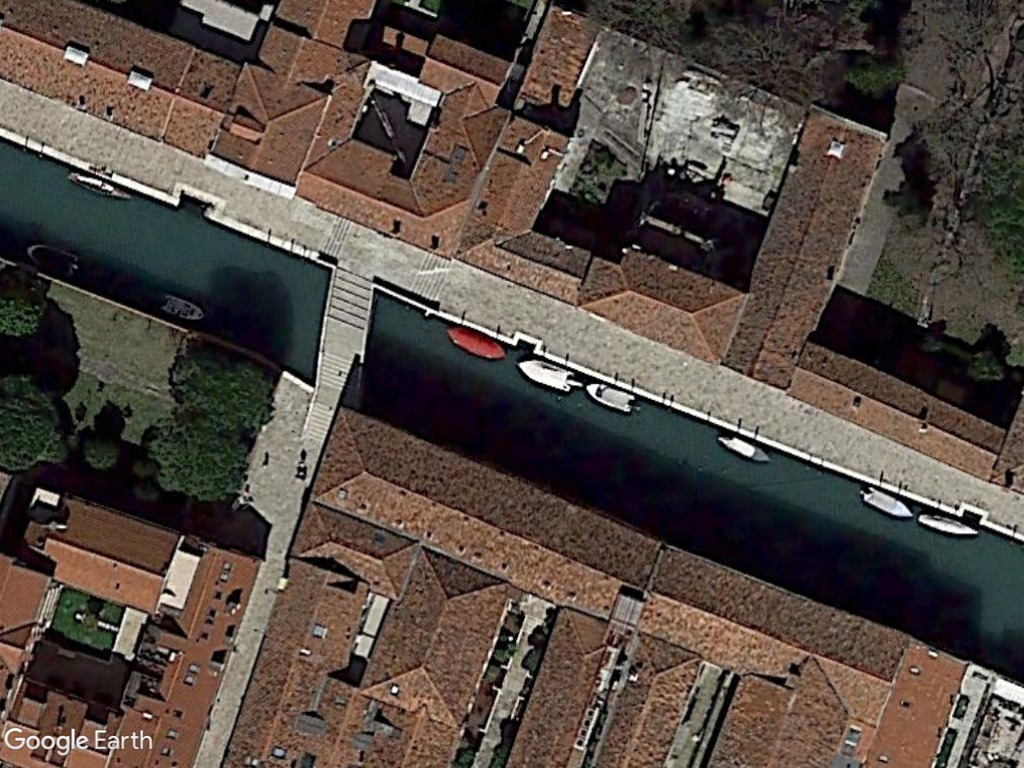boat: (514, 356, 579, 398), (18, 240, 86, 280), (443, 324, 508, 364), (856, 483, 916, 522), (915, 508, 983, 541), (583, 379, 640, 417), (714, 431, 772, 467), (152, 288, 208, 325)
